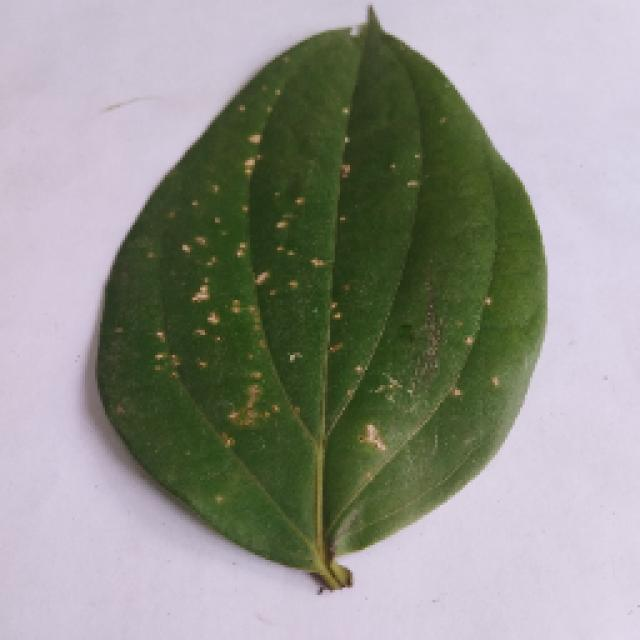pollu-disease: (53, 15, 585, 607)
